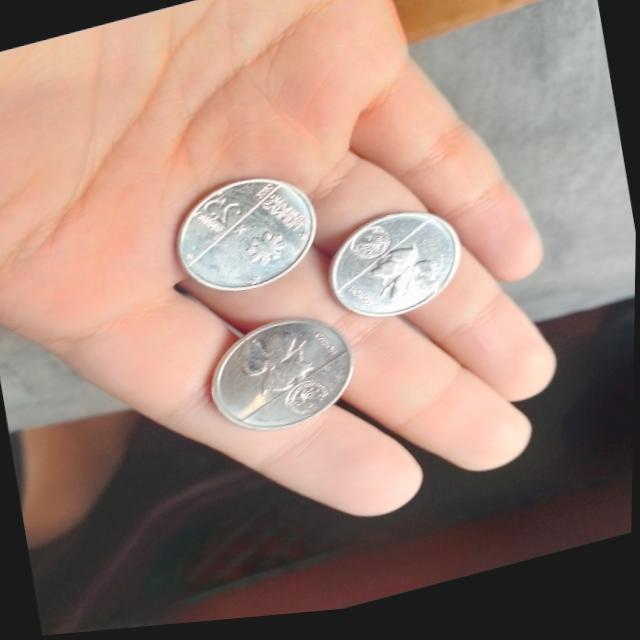25Cent_New_Back: (224, 322, 322, 416)
25Cent_New_Front: (189, 184, 259, 243)
